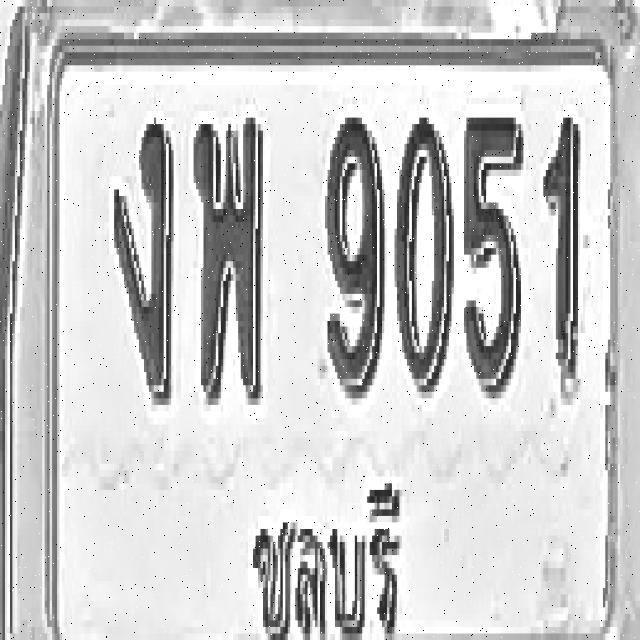0: (394, 111, 452, 392)
1: (544, 110, 580, 398)
16NgorNgu: (112, 117, 172, 405)
39PhorPan: (193, 111, 263, 405)
5: (462, 107, 522, 396)
9: (324, 110, 384, 398)
Chonburi: (240, 474, 416, 640)
